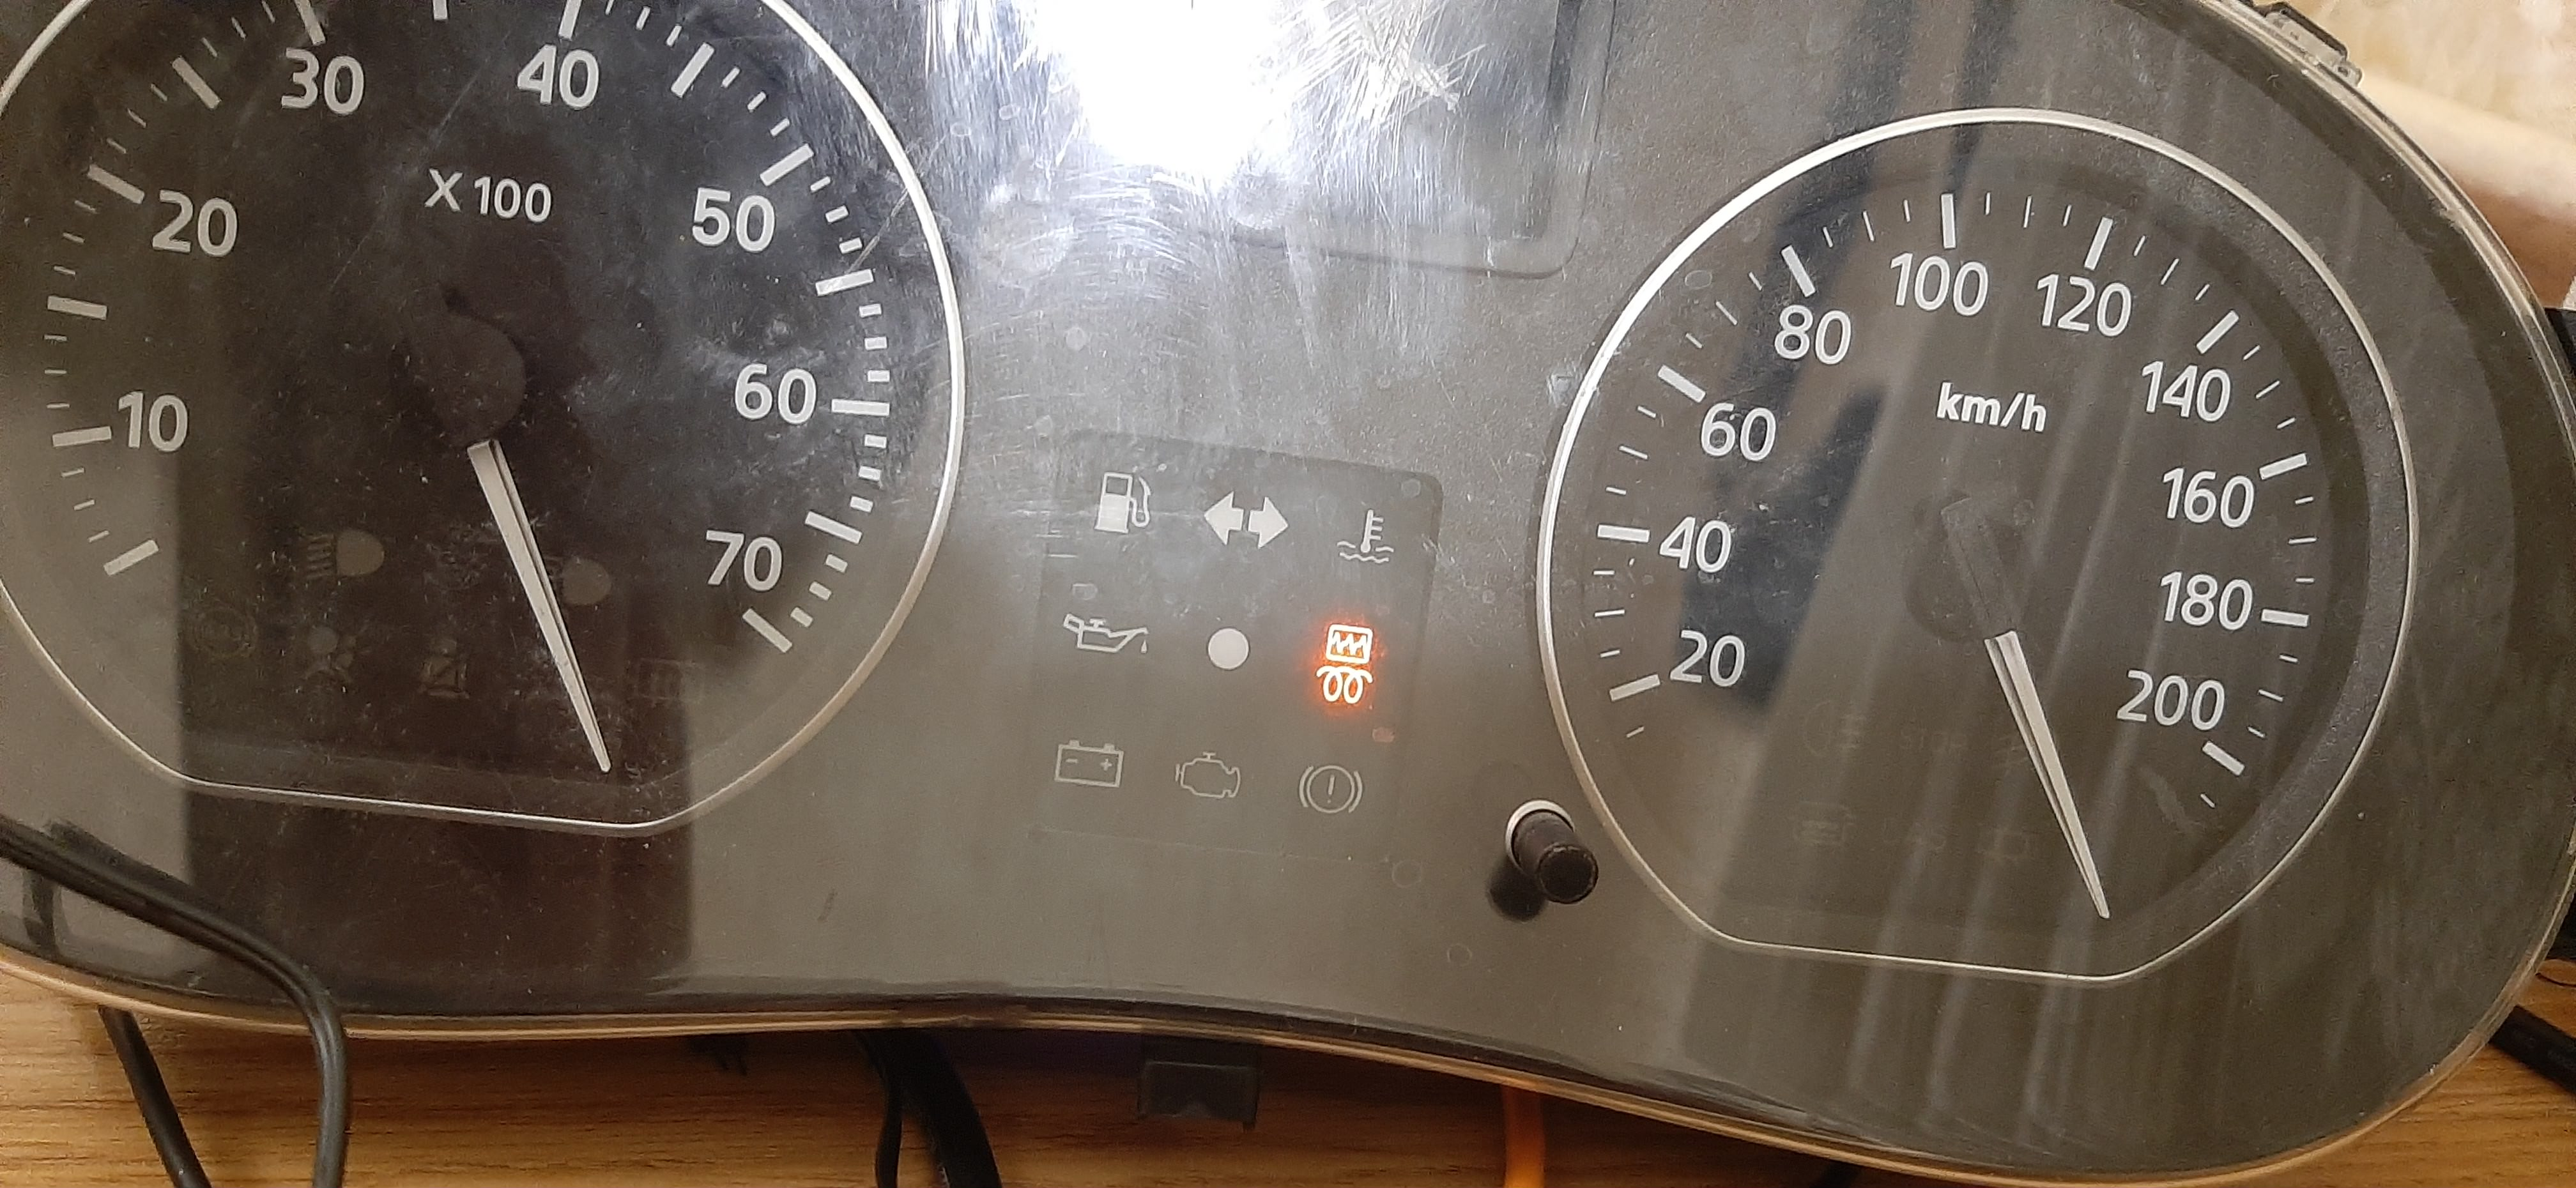diesel9: (1316, 619, 1375, 708)
